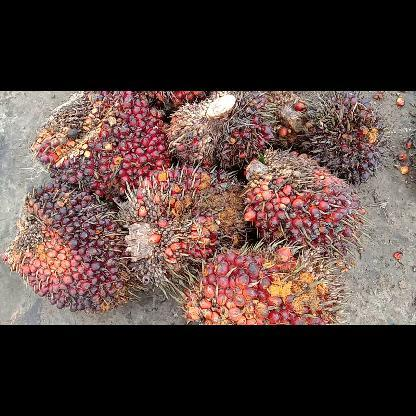TBS masak: (4, 190, 152, 312), (32, 91, 168, 200), (118, 170, 248, 276), (242, 146, 364, 258), (187, 246, 343, 324), (168, 92, 276, 170), (298, 92, 382, 184)
